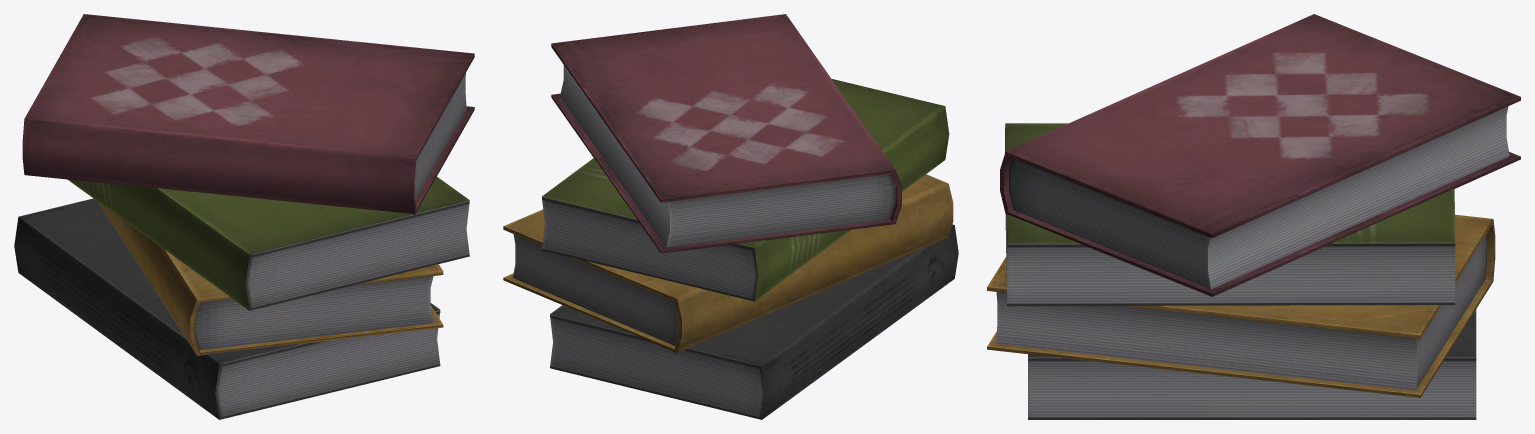
The model's file is book_pile_unnamed02.dae.
3 views of the same model, side by side, from view 1: azimuth 30°, elevation 25°; view 2: azimuth 150°, elevation 25°; view 3: azimuth 270°, elevation 25° (orthographic). The views are drawn at different scales.
Parts seen in each view (by area): view 1: book_pile_unnamed02; view 2: book_pile_unnamed02; view 3: book_pile_unnamed02.
Boxes of the visible parts, left/top/right/bottom form: book_pile_unnamed02: left=14, top=14, right=474, bottom=419; book_pile_unnamed02: left=503, top=14, right=958, bottom=419; book_pile_unnamed02: left=987, top=14, right=1520, bottom=419.
Size of the model in its own units: 0.2791 by 0.1457 by 0.2828.
